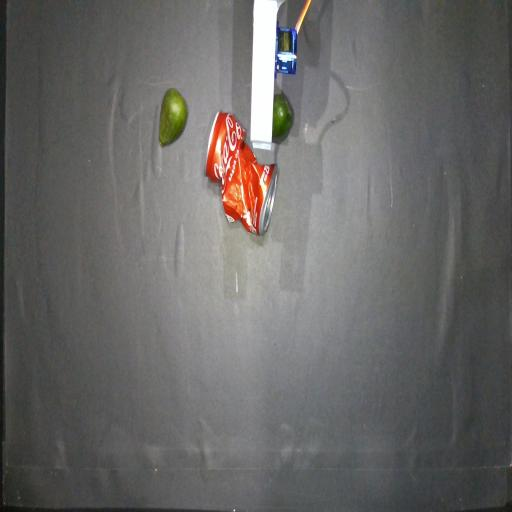higo: (158, 88, 187, 146), (272, 93, 294, 143)
lata_defectuoso: (205, 112, 278, 235)
